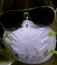with_mask: (1, 1, 57, 65)
